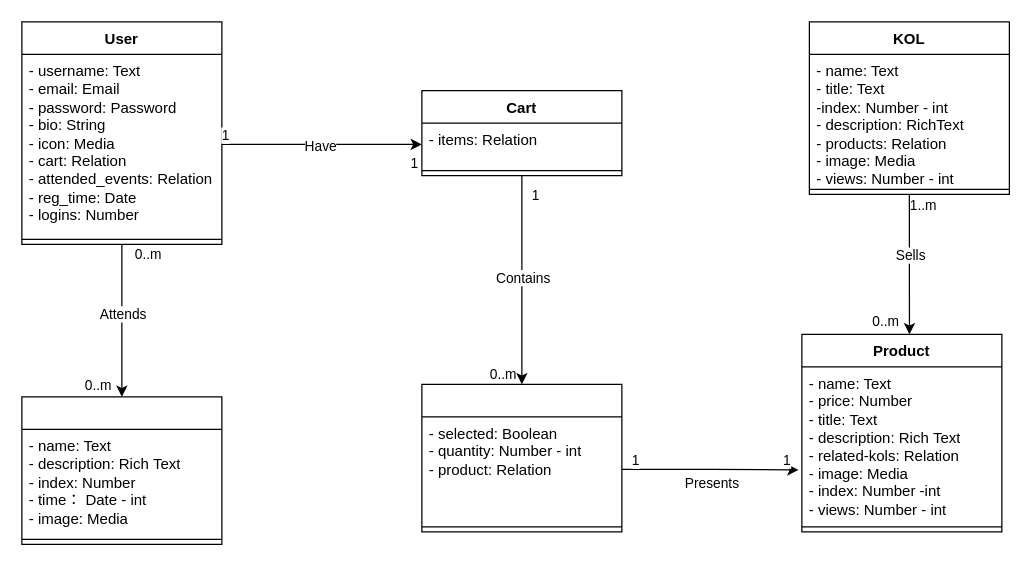
Some shapes in this 1031 by 566 pixel diagram are drawn without their labels. The box of each missing label's shape, as (x1, y1, x2, y2) in pixels:
CartItem: (421, 383, 622, 532)
Event: (21, 396, 222, 544)
